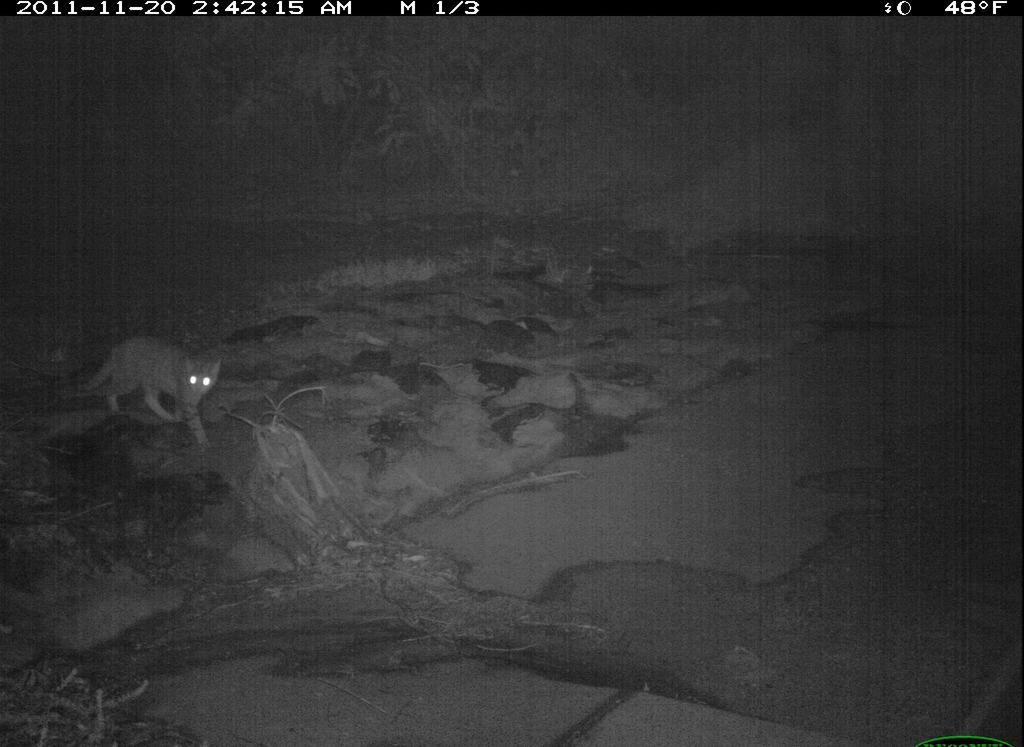cat: (70, 331, 231, 457)
